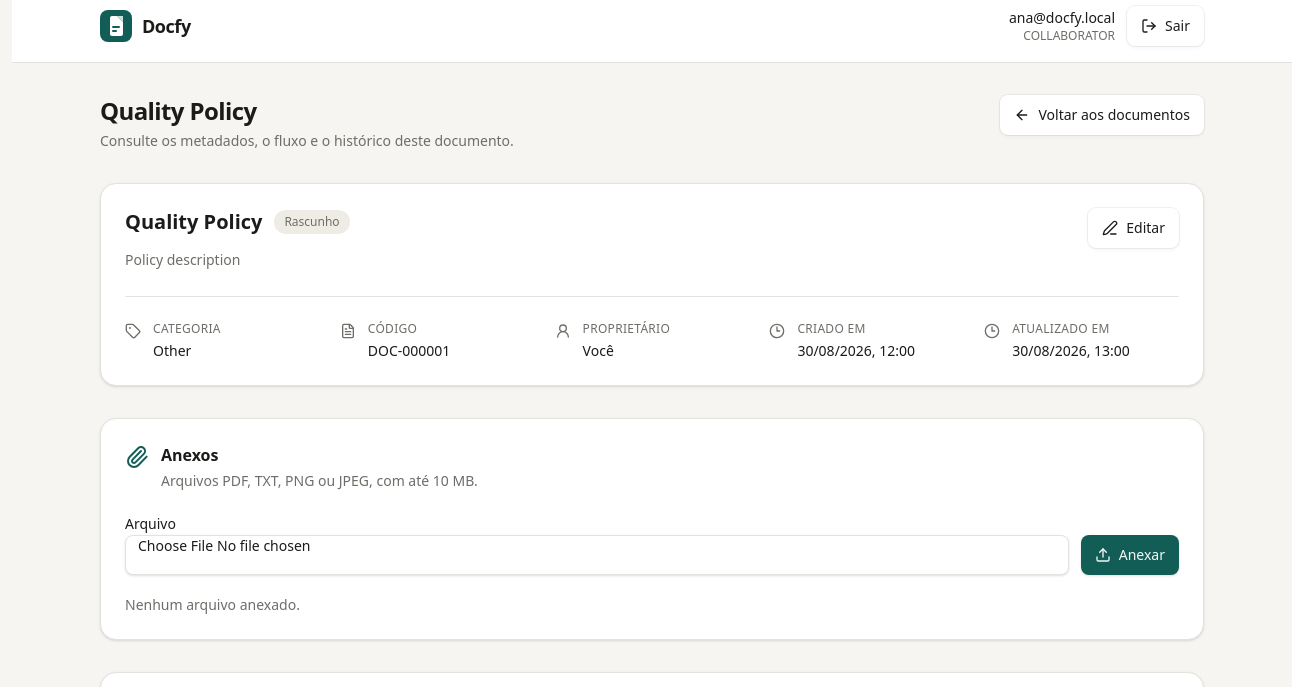
DocumentDetailPage edit UX › does not send PATCH when no field changed
The width and height of the screenshot is (1292, 687).
Click the button "Editar": [1134, 228] box [1088, 208, 1179, 248]
(page scrolled)
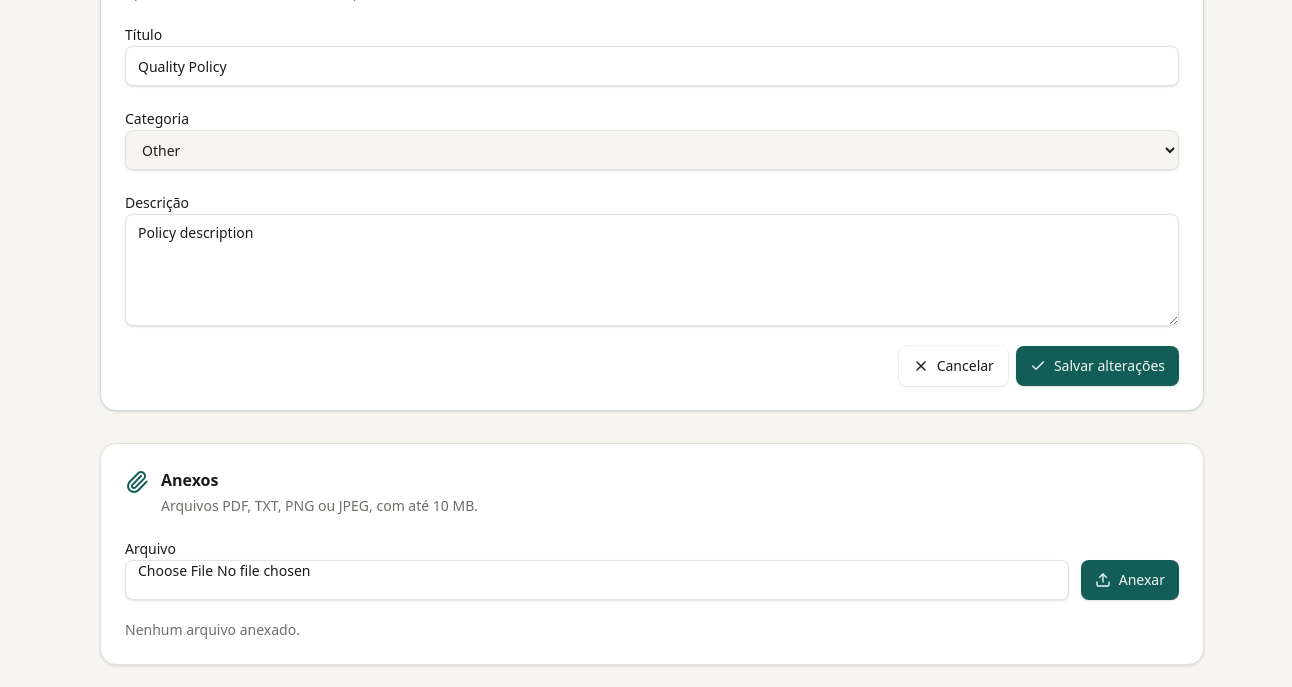
Click the button "Salvar alterações": [1097, 366] box [1016, 346, 1179, 386]
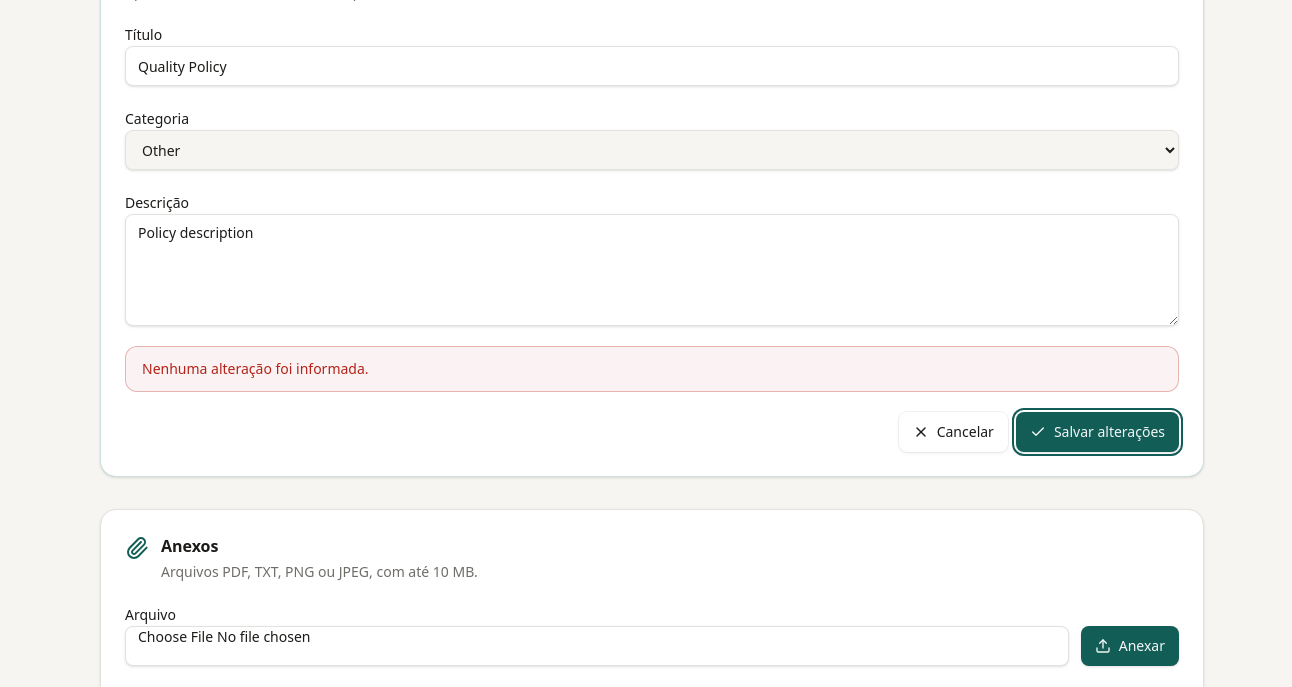
Check: the text "Nenhuma alteração foi informada." is shown, box [142, 359, 369, 378]
